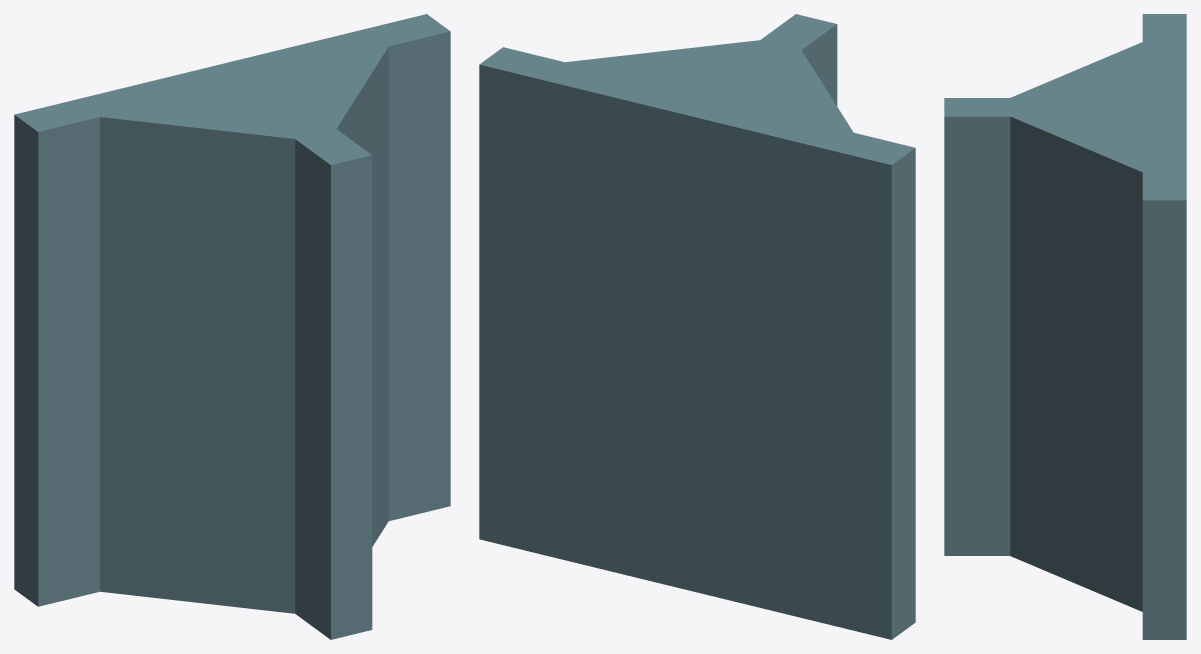
File: W1_WallCorner_Angular1C.fbx
3 views of the same model, side by side, from view 1: azimuth 30°, elevation 25°; view 2: azimuth 150°, elevation 25°; view 3: azimuth 270°, elevation 25° (orthographic). The views are drawn at different scales.
Parts seen in each view (by area): view 1: W1_WallCorner_Angular1C.001; view 2: W1_WallCorner_Angular1C.001; view 3: W1_WallCorner_Angular1C.001.
Part boxes in pixels (x1,y1,x2,y2): W1_WallCorner_Angular1C.001: [14, 14, 450, 639]; W1_WallCorner_Angular1C.001: [479, 14, 915, 639]; W1_WallCorner_Angular1C.001: [944, 14, 1186, 639].
Size of the model in its own units: 2 by 2.2 by 1.1.
